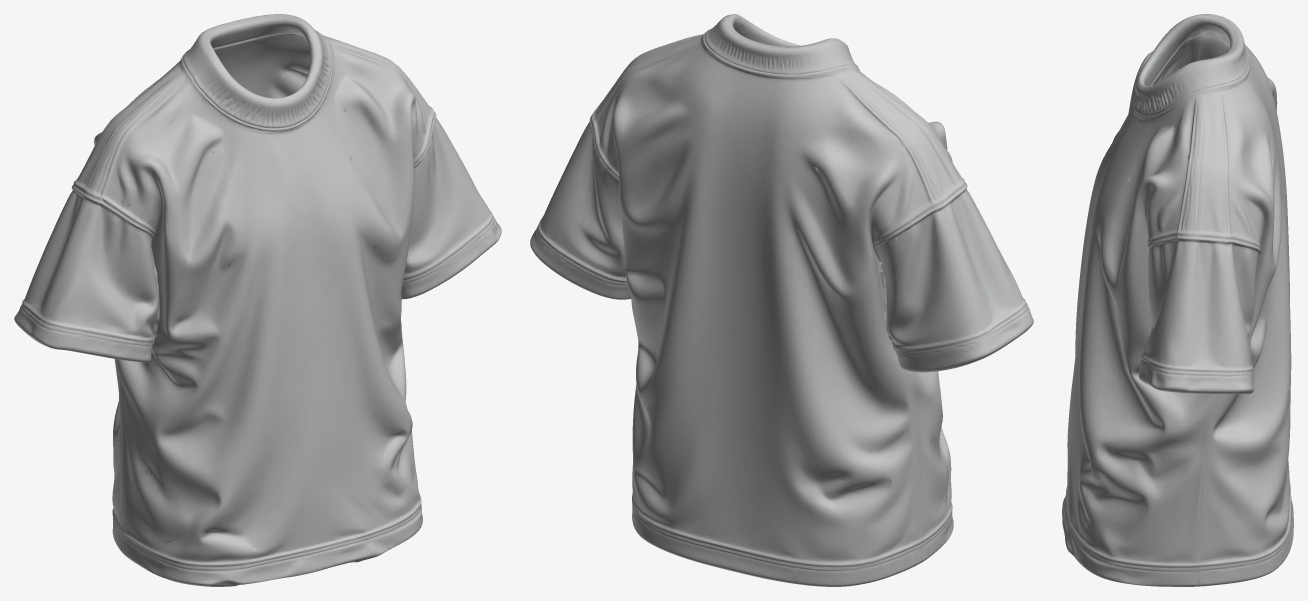
File: shirt-008.glb
3 views of the same model, side by side, from view 1: azimuth 30°, elevation 25°; view 2: azimuth 150°, elevation 25°; view 3: azimuth 270°, elevation 25° (orthographic). The views are drawn at different scales.
Parts seen in each view (by area): view 1: material; view 2: material; view 3: material.
Boxes of the visible parts, x1,y1,x2,y2 form: material: (14,14,501,586); material: (530,14,1033,586); material: (1062,14,1293,586).
Size of the model in its own units: 1.04 by 1.06 by 0.4526.
1 material, 1 textured.
